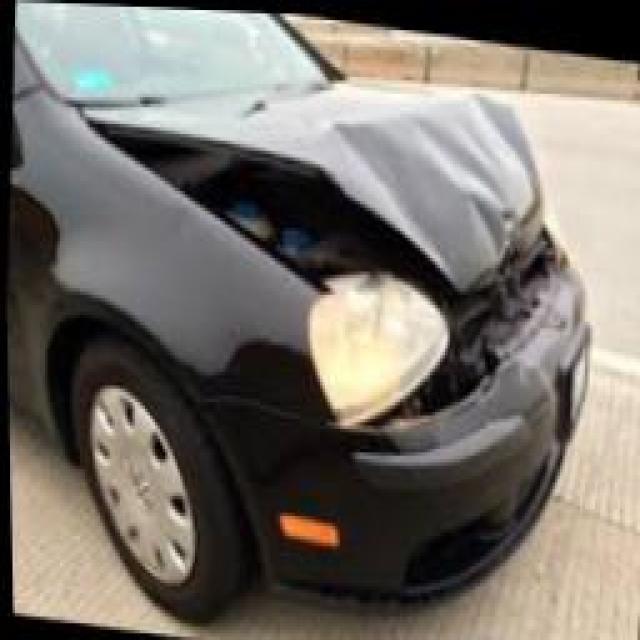Bonnet: (81, 64, 572, 352)
Bumper: (337, 252, 596, 597)
Light: (303, 262, 457, 416)
